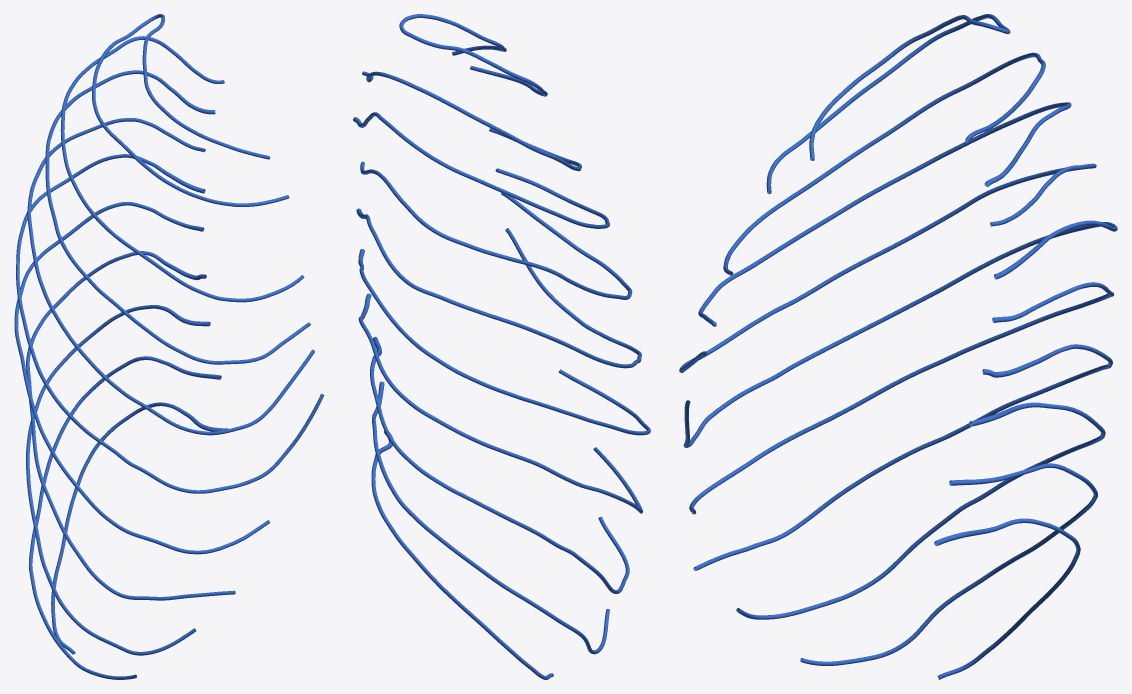
The model's file is circulatorio-right-superior-intercostal-vein.glb.
3 renders of one model, left to right at view 1: azimuth 30°, elevation 25°; view 2: azimuth 150°, elevation 25°; view 3: azimuth 270°, elevation 25°, orthographic. The views are drawn at different scales.
Visible parts, largest first — view 1: Right superior intercostal vein; view 2: Right superior intercostal vein; view 3: Right superior intercostal vein.
Part boxes in pixels (<box>): Right superior intercostal vein: <box>14,14,324,679</box>; Right superior intercostal vein: <box>353,14,650,679</box>; Right superior intercostal vein: <box>679,14,1117,679</box>.
Size of the model in its own units: 0.1273 by 0.3566 by 0.1966.
